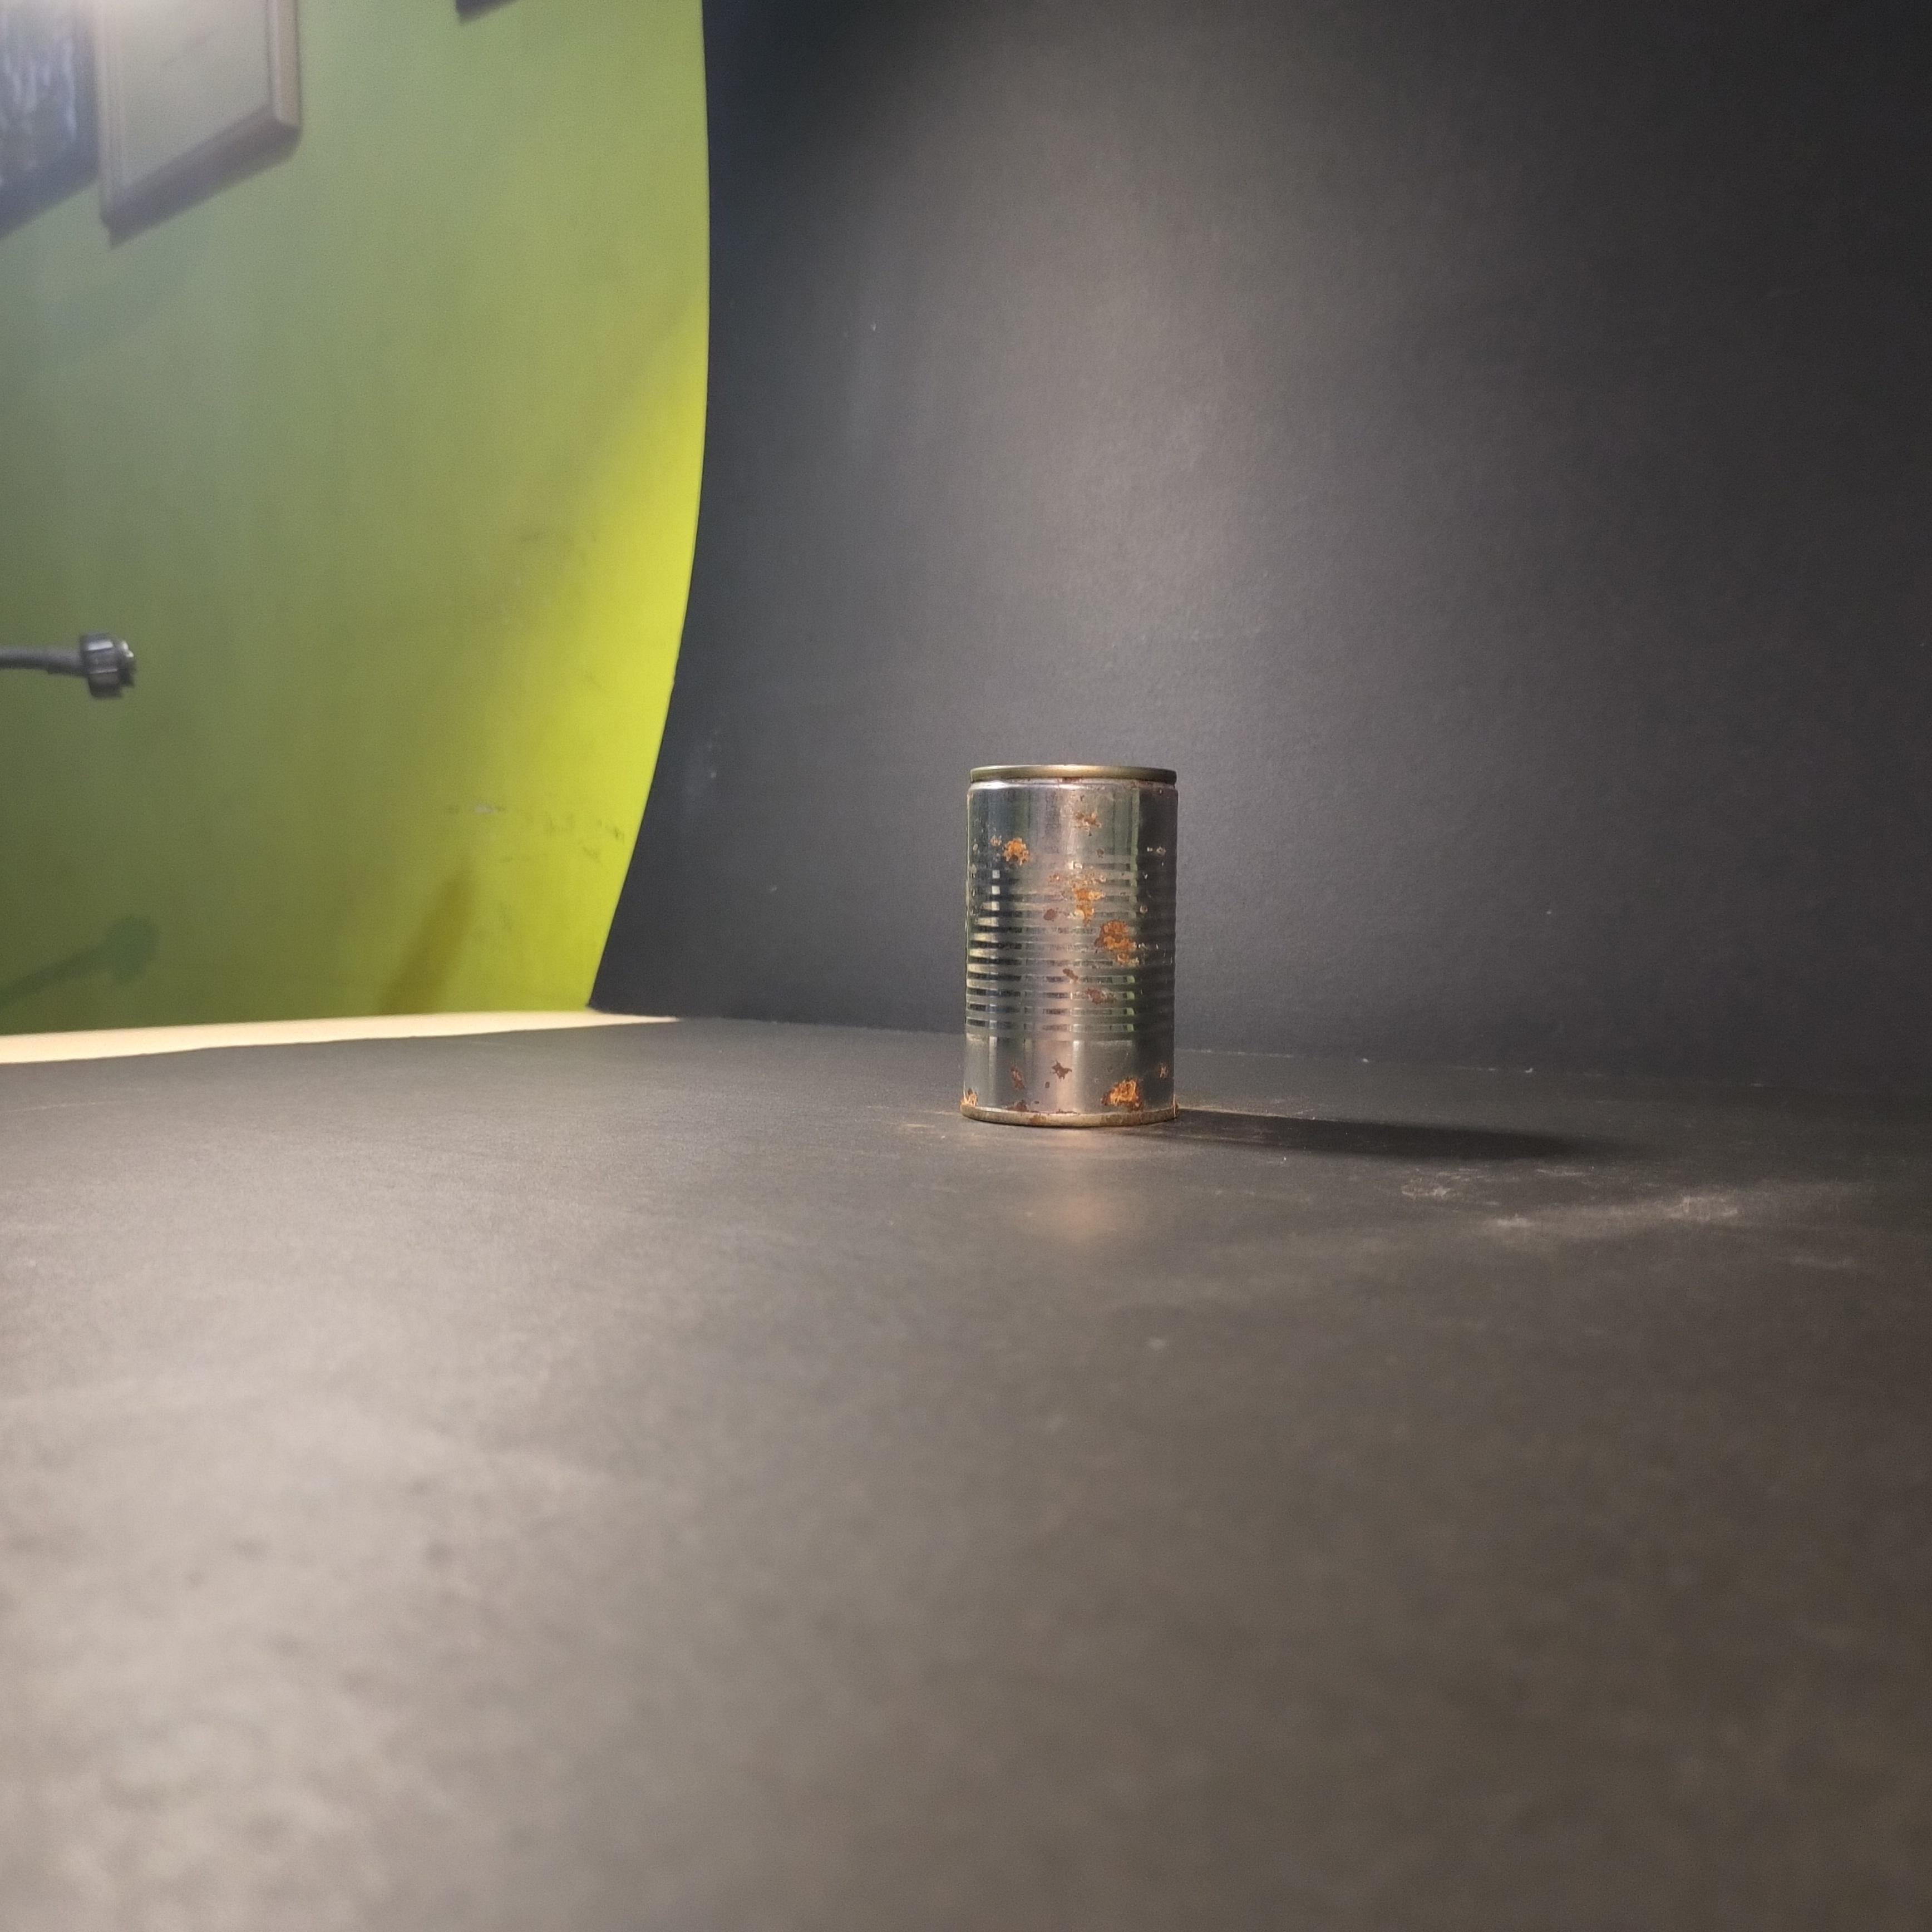Rusted: (938, 743, 1200, 1157)
